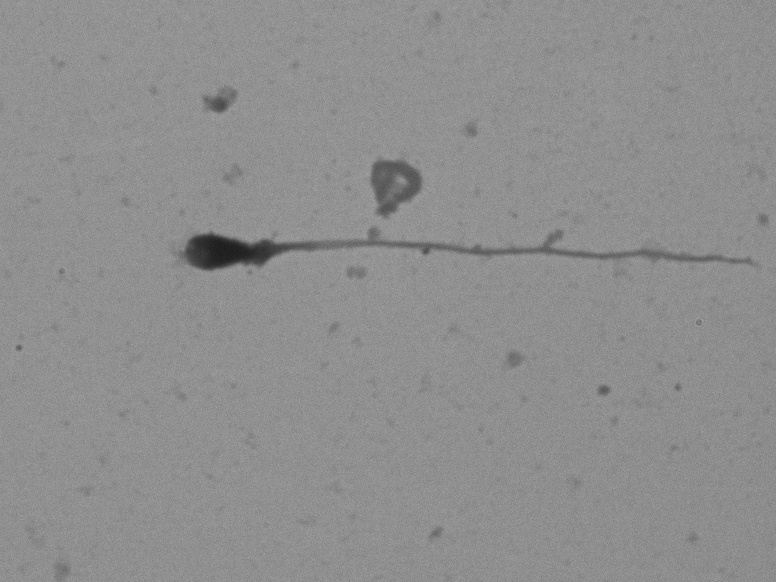Abnormal: (157, 215, 764, 318)
